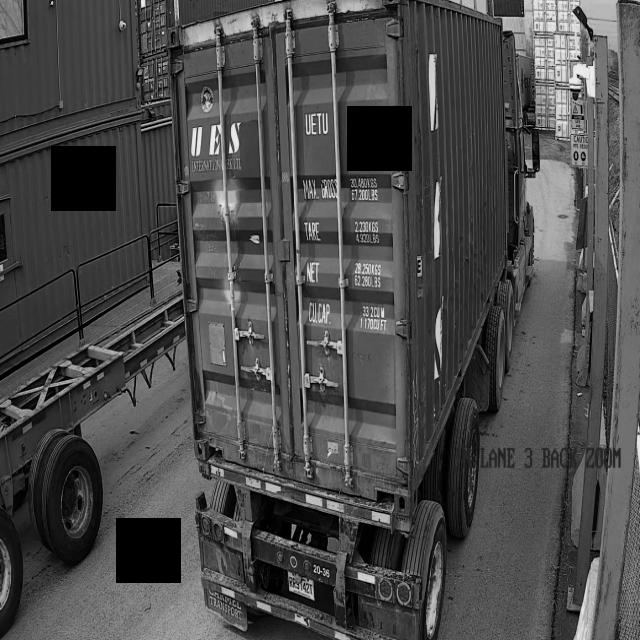container_company_logo: (190, 115, 252, 169)
container_number: (302, 101, 401, 172)
license_plate: (277, 563, 323, 607)
other_container_info: (301, 175, 397, 333)
truck_with_container: (170, 0, 539, 640)
truck_without_container: (0, 295, 185, 636)
